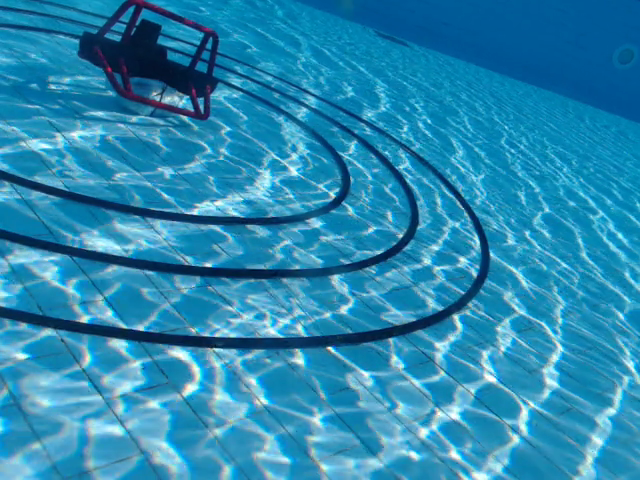submarine: (76, 1, 221, 122)
